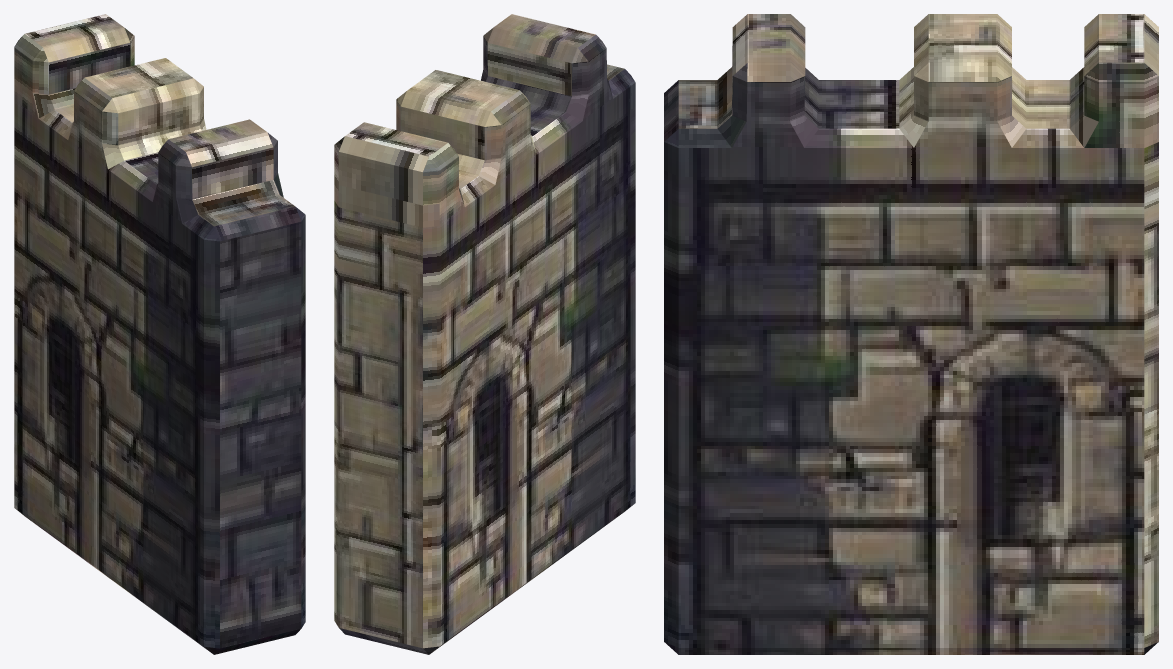
File: castlepart2.glb
3 renders of one model, left to right at view 1: azimuth 30°, elevation 25°; view 2: azimuth 150°, elevation 25°; view 3: azimuth 270°, elevation 25°, orthographic. The views are drawn at different scales.
Visible parts, largest first — view 1: OIG2 (23).002; view 2: OIG2 (23).002; view 3: OIG2 (23).002.
Boxes of the visible parts, x1,y1,x2,y2 form: OIG2 (23).002: (14, 14, 305, 654); OIG2 (23).002: (334, 14, 635, 654); OIG2 (23).002: (664, 14, 1158, 654).
Size of the model in its own units: 0.0342 by 0.1547 by 0.1172.
Materials: 1 (1 with a texture image).
